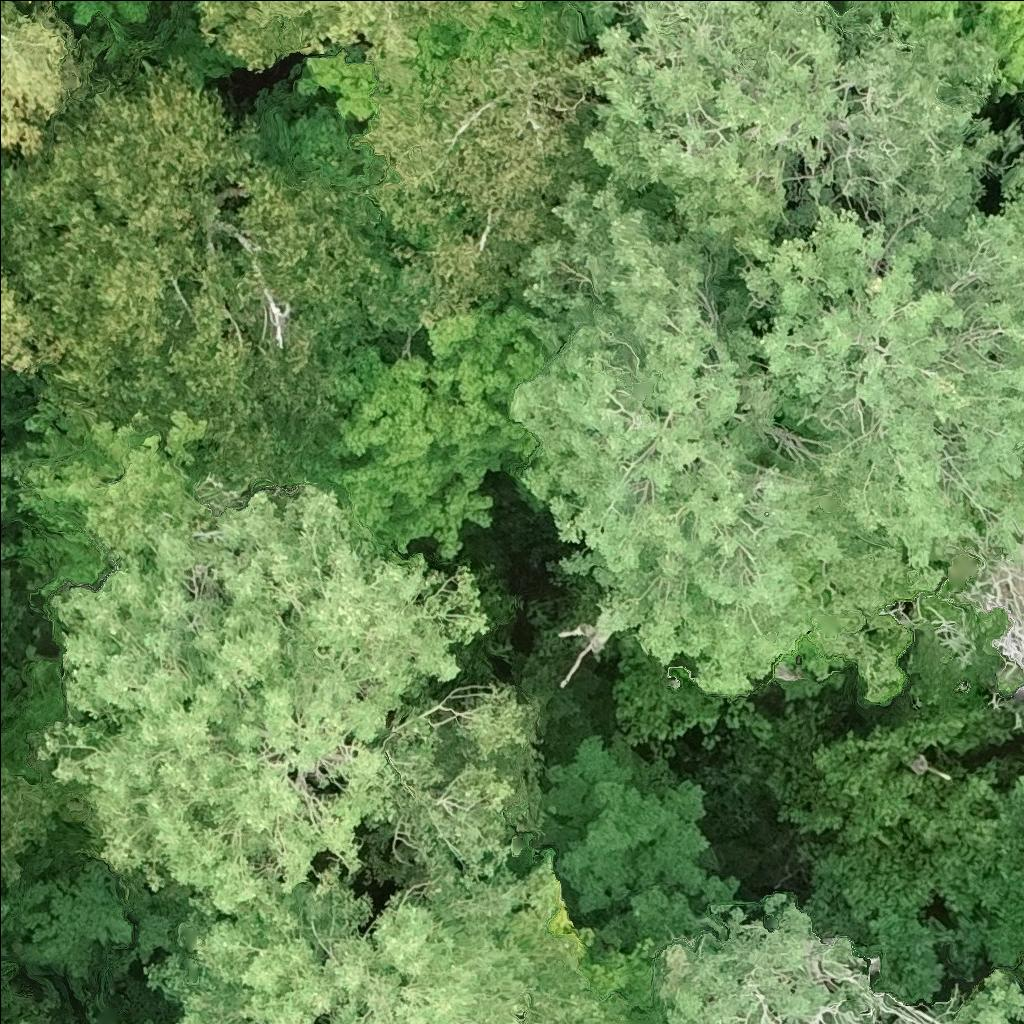crown: (508, 172, 946, 694), (33, 482, 549, 918), (0, 51, 392, 514), (731, 165, 1023, 574), (566, 0, 1004, 271), (140, 855, 618, 1023), (358, 25, 599, 341), (324, 299, 549, 559), (512, 729, 743, 948), (0, 402, 219, 570), (648, 892, 859, 1023), (195, 0, 435, 91), (0, 0, 97, 157), (410, 0, 569, 91), (879, 0, 1023, 100), (0, 258, 60, 393), (0, 760, 66, 881), (974, 546, 1023, 672), (947, 967, 1023, 1023), (0, 564, 39, 665), (57, 0, 156, 31), (434, 0, 496, 32), (106, 1013, 177, 1023), (0, 1017, 36, 1023), (845, 0, 851, 5)
